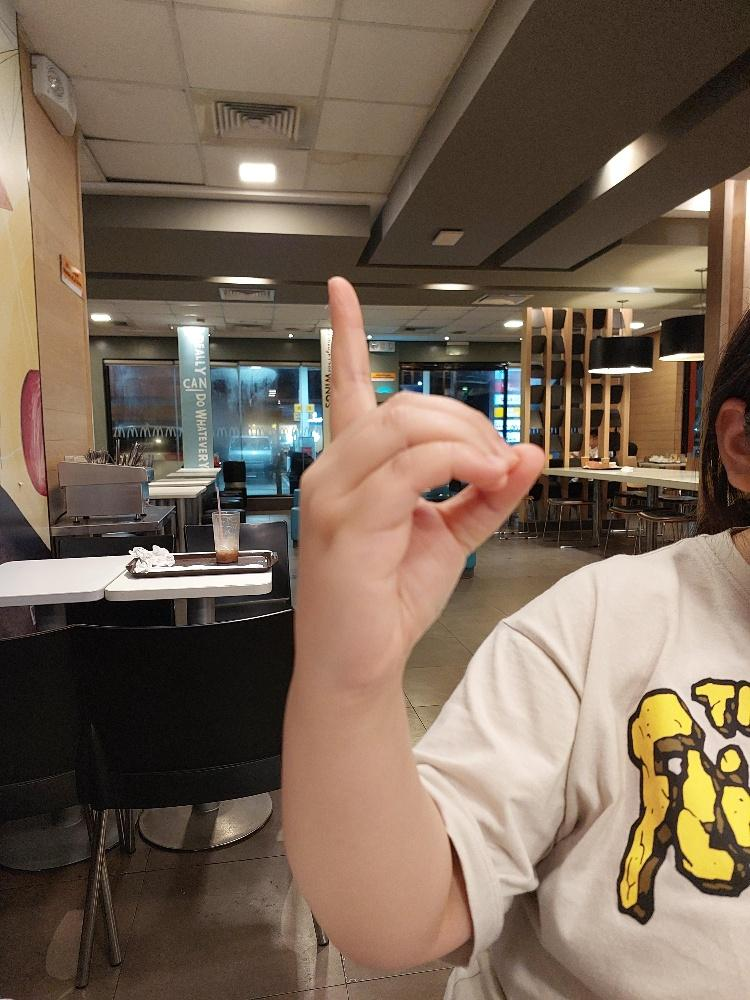d: (291, 276, 546, 688)
